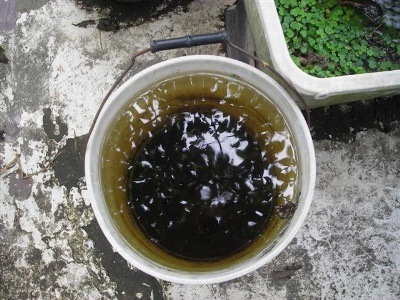bucket: (83, 54, 317, 287)
